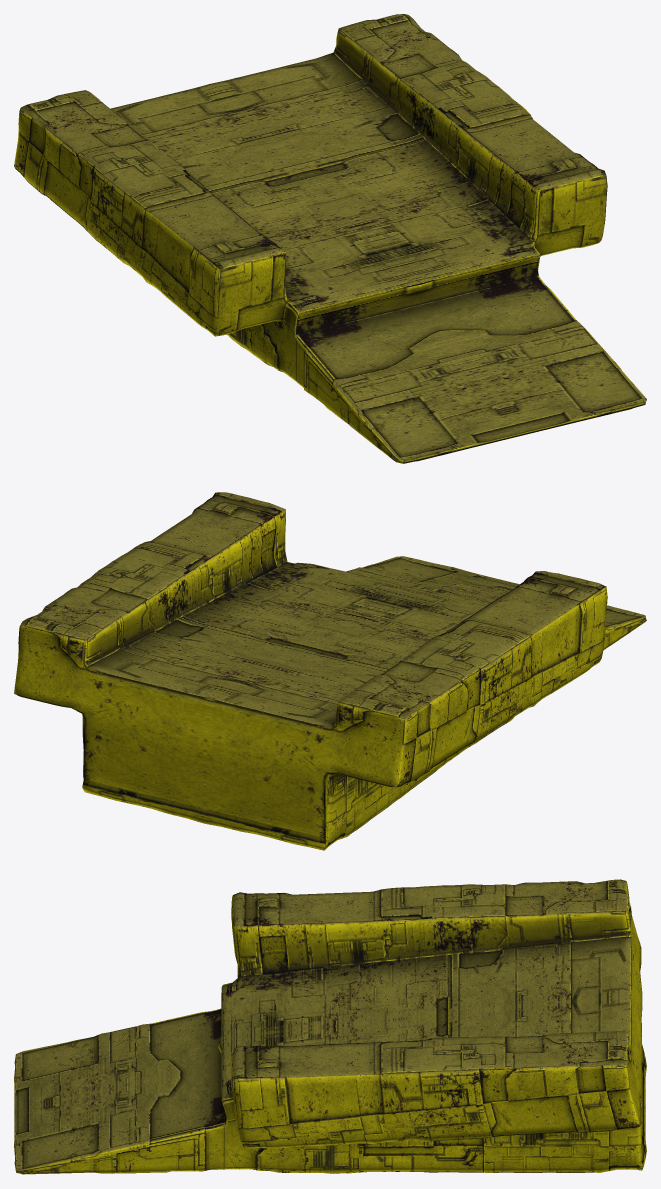
File: machine-ram-ue.FBX
The picture shows the model from 3 angles, top to bottom: view 1: azimuth 30°, elevation 25°; view 2: azimuth 150°, elevation 25°; view 3: azimuth 270°, elevation 25°; orthographic projection. The views are drawn at different scales.
Visible parts, largest first — view 1: Ramp_mech; view 2: Ramp_mech; view 3: Ramp_mech.
Part boxes in pixels (x1,y1,x2,y2): Ramp_mech: (14,14,646,463); Ramp_mech: (14,492,646,850); Ramp_mech: (14,879,646,1174).
Bounding box in the file's own units: 132 × 48.68 × 188.
1 material, 1 textured.
